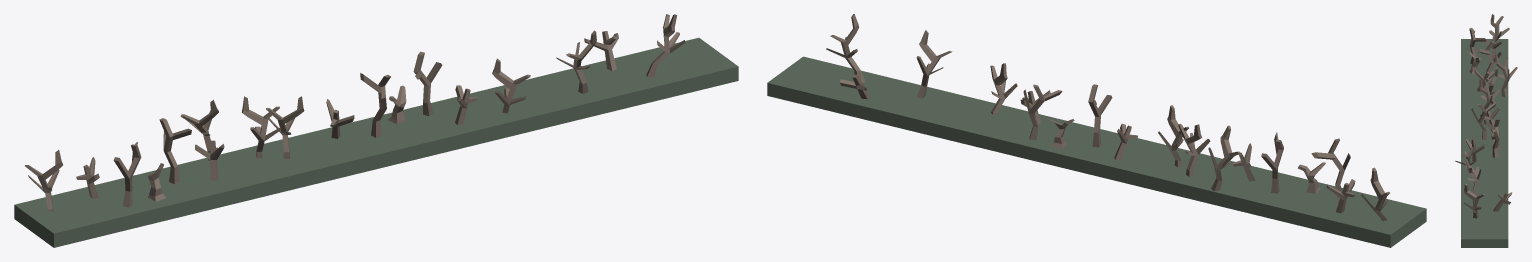
File: OUT3terreno.glb
The picture shows the model from 3 angles, left to right: view 1: azimuth 30°, elevation 25°; view 2: azimuth 150°, elevation 25°; view 3: azimuth 270°, elevation 25°; orthographic projection. The views are drawn at different scales.
Parts seen in each view (by area): view 1: OutGround3, OutDeco3; view 2: OutGround3, OutDeco3; view 3: OutGround3, OutDeco3.
Boxes of the visible parts, box(x1,y1,x2,y2) form: OutGround3: box(14, 37, 738, 247); OutDeco3: box(25, 14, 684, 211); OutGround3: box(767, 56, 1426, 247); OutDeco3: box(826, 14, 1389, 221); OutGround3: box(1461, 39, 1508, 247); OutDeco3: box(1455, 14, 1517, 218).
Bounding box in the file's own units: 50 × 5.83 × 6.58.
